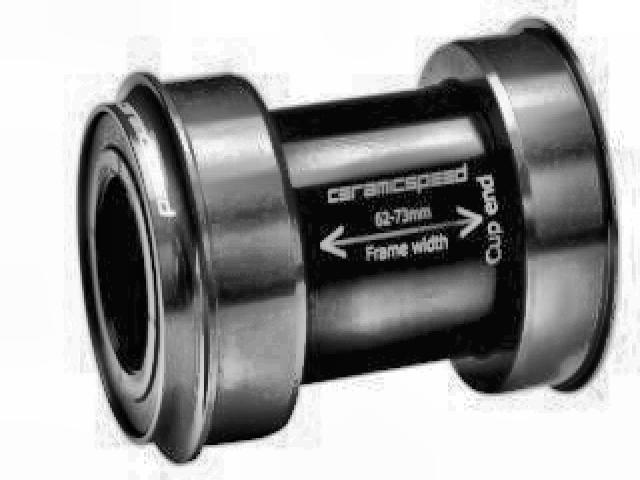bottom_bracket: (74, 11, 624, 467)
